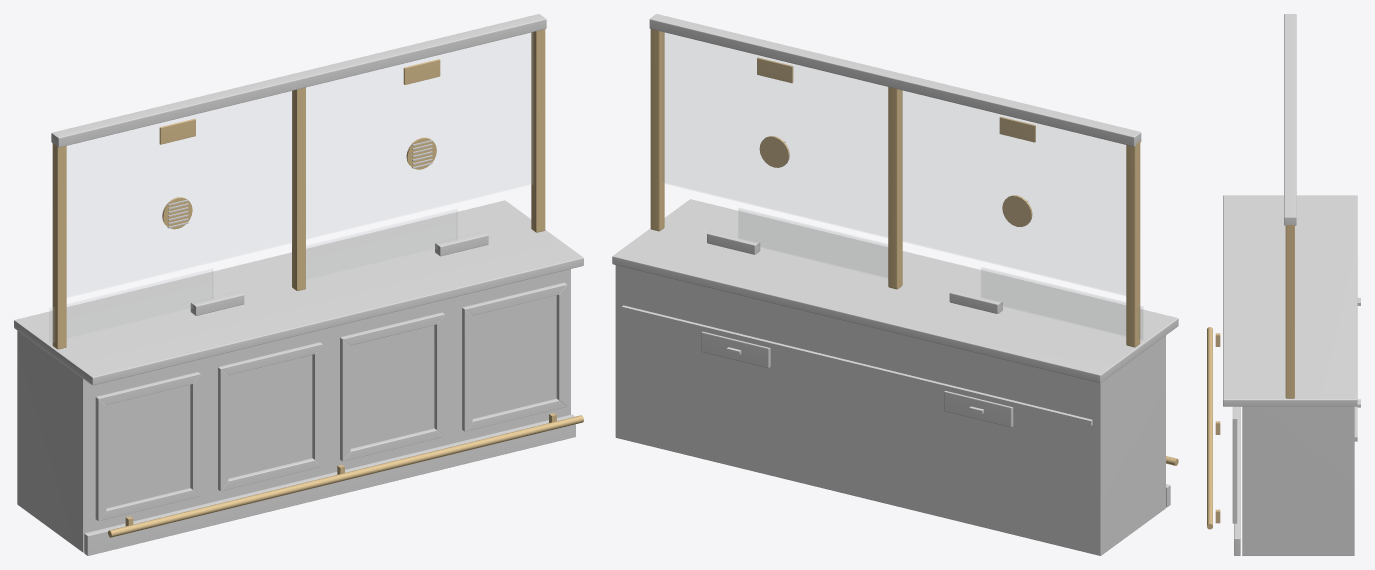
File: SM_Bank_Counter.fbx
3 renders of one model, left to right at view 1: azimuth 30°, elevation 25°; view 2: azimuth 150°, elevation 25°; view 3: azimuth 270°, elevation 25°, orthographic. The views are drawn at different scales.
Parts seen in each view (by area): view 1: SM_Bank_Counter_3; view 2: SM_Bank_Counter_3; view 3: SM_Bank_Counter_3.
Boxes of the visible parts, x1,y1,x2,y2 form: SM_Bank_Counter_3: (14,14,583,555); SM_Bank_Counter_3: (612,14,1178,555); SM_Bank_Counter_3: (1207,14,1360,555).
Bounding box in the file's own units: 304 × 233 × 95.9.
